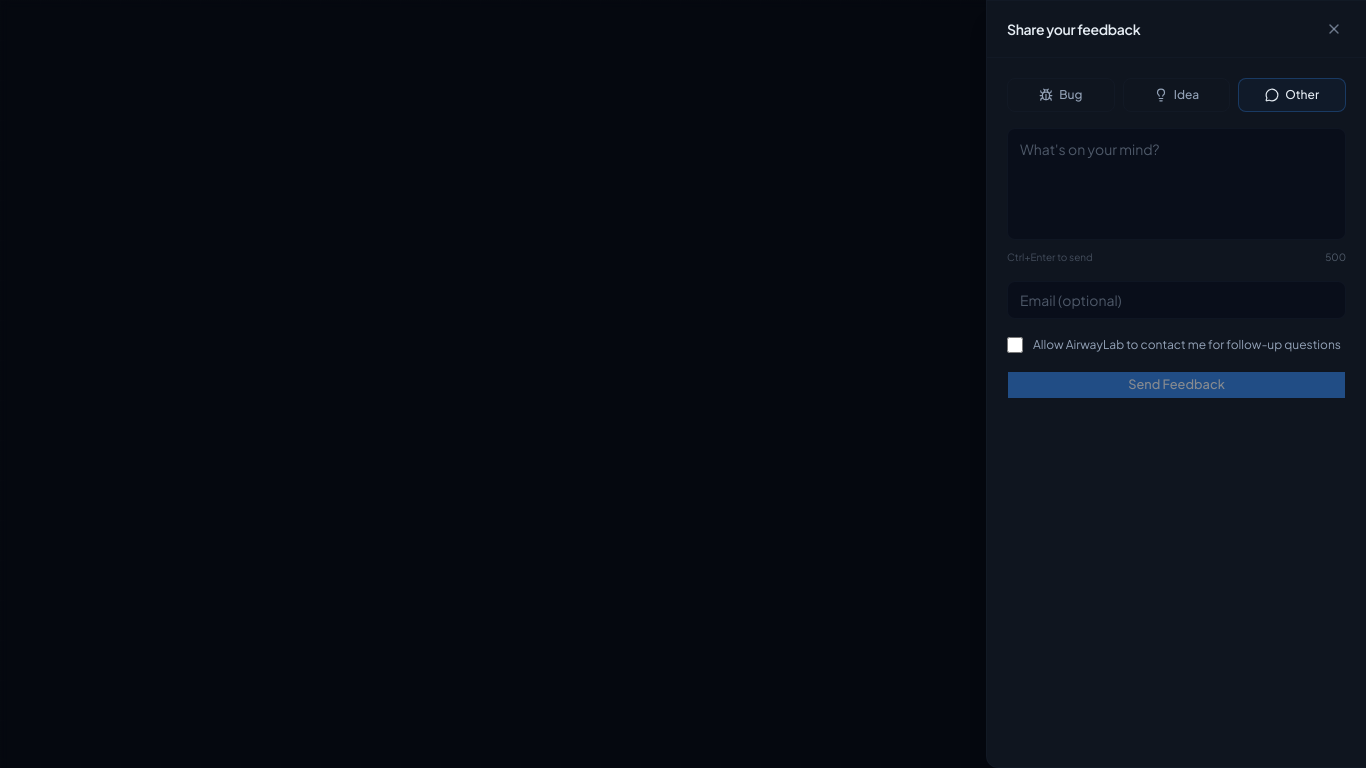
FeedbackPanel › shows error state on failure without clearing message
In the text box with placeholder "What's on your mind?": coordinates (1176, 184) x1=1007 y1=128 x2=1346 y2=240, type "Something broke"
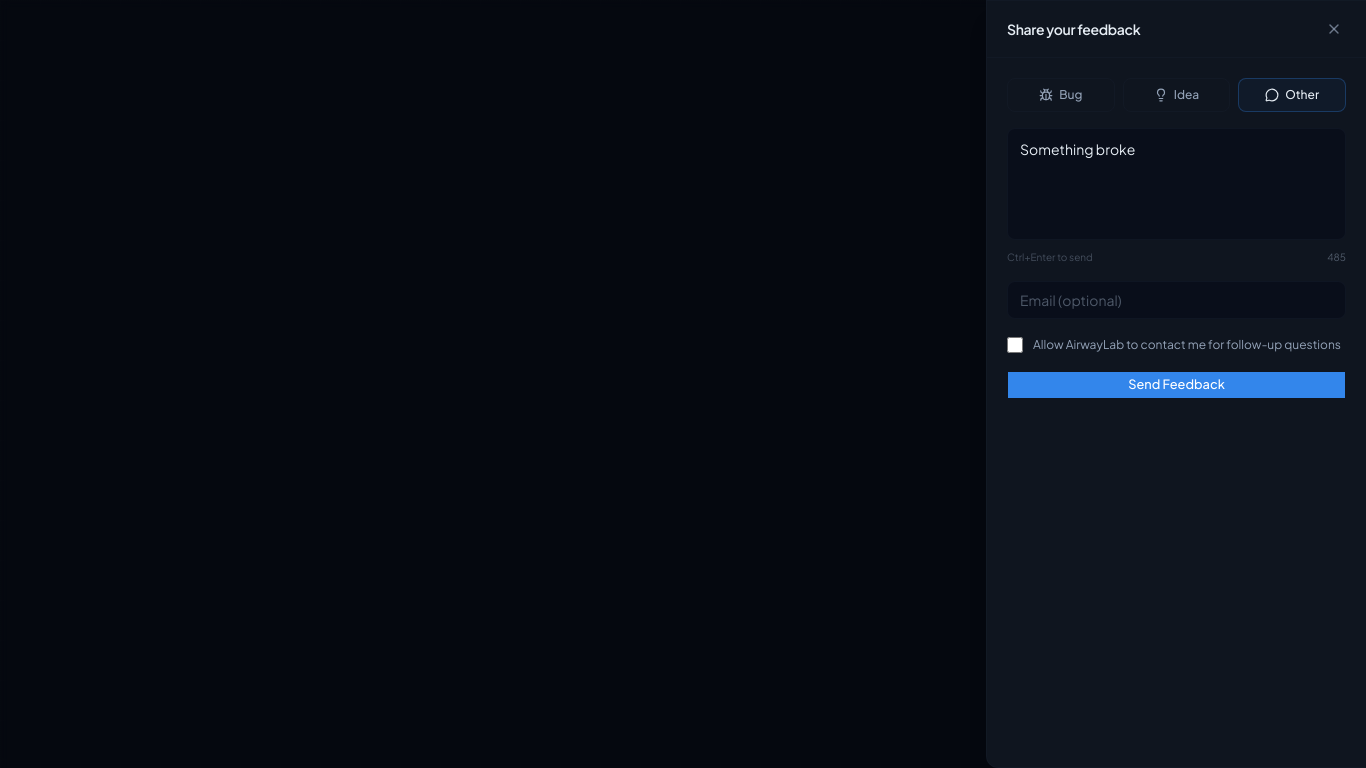
Click the button "Send Feedback": coordinates (1176, 384) x1=1007 y1=370 x2=1346 y2=398
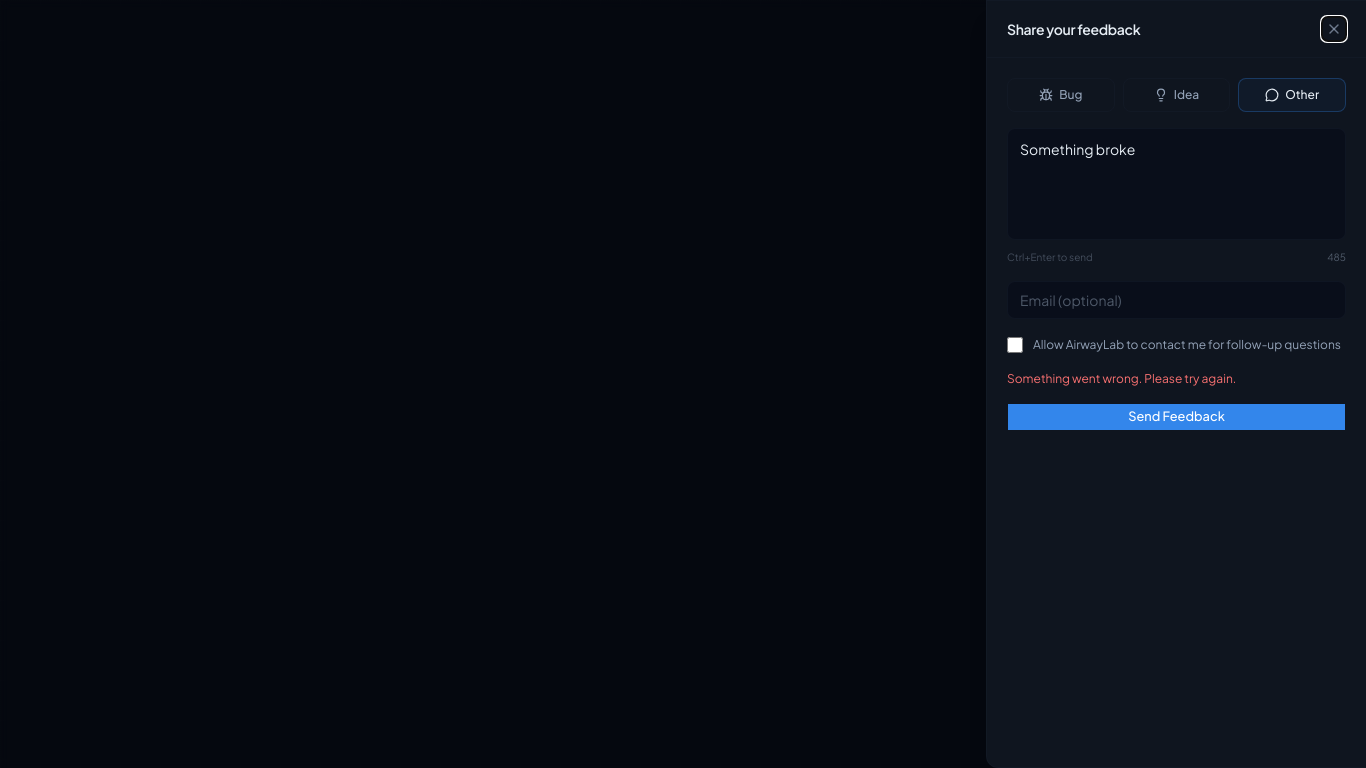
Expected: the text "Something went wrong. Please try again." is shown, x1=1007 y1=370 x2=1236 y2=386
